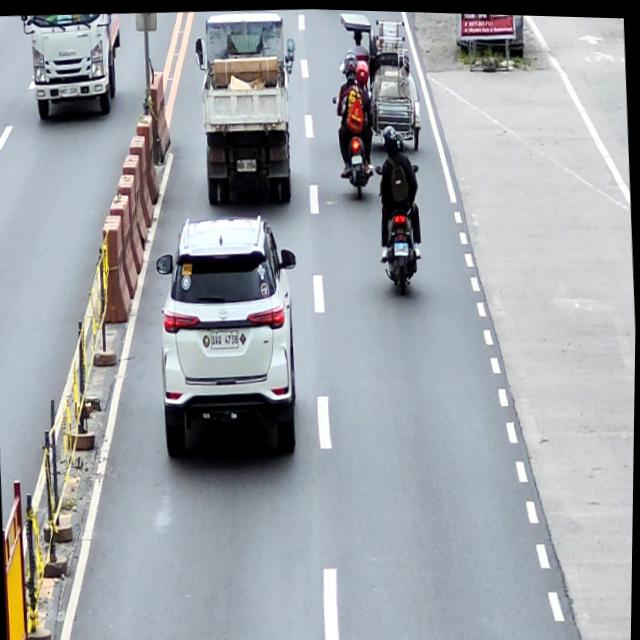Car: (152, 211, 307, 461)
License-Plate: (211, 329, 241, 348), (237, 158, 257, 171), (395, 239, 410, 254), (61, 85, 79, 97), (351, 153, 362, 162)
Motorcycle: (374, 161, 426, 295), (333, 89, 377, 198)
Tricycle: (339, 8, 424, 151)
Truck: (192, 9, 305, 207), (21, 11, 125, 123)
